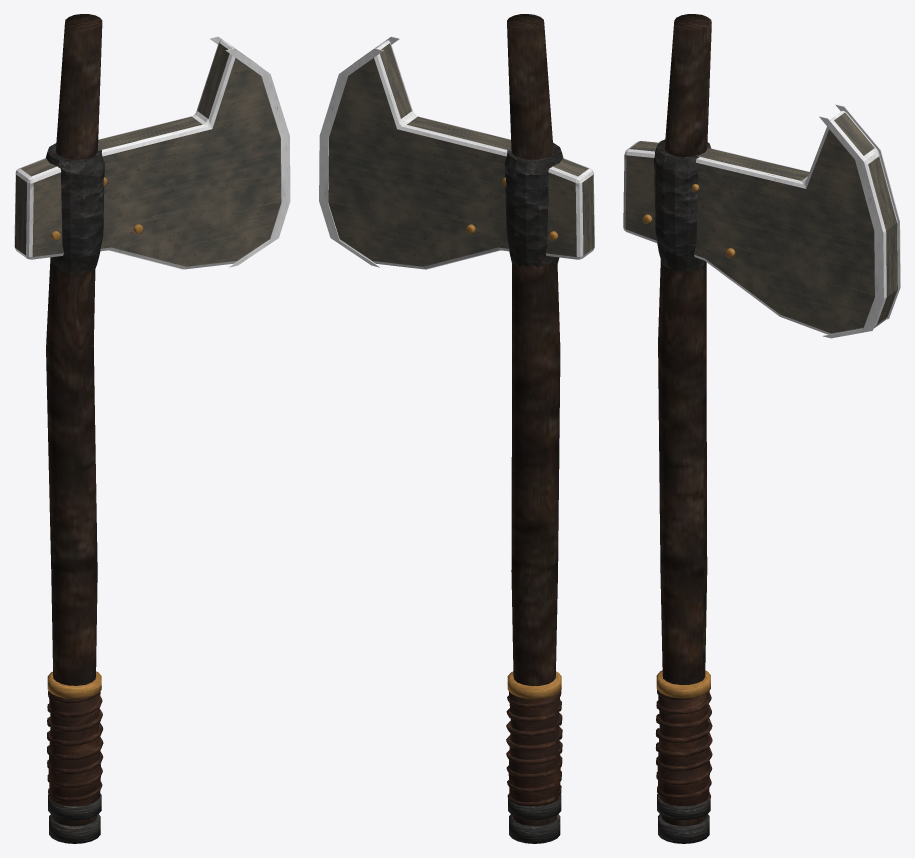
The model's file is ossuary_falx.glb.
The picture shows the model from 3 angles, left to right: view 1: azimuth 30°, elevation 25°; view 2: azimuth 150°, elevation 25°; view 3: azimuth 330°, elevation 25°; orthographic projection.
Visible parts, largest first — view 1: Shaped bearded axe head.002, Straight palm shaft and tapered ironwood.002, Swaged head socket.002, Bound palm grip.008, Continuous bound leather seam.008, Honed cutting cheek.004, Socketed pommel ferrule.002, Grip forward ferrule.008, Grip rear ferrule.008; view 2: Shaped bearded axe head.002, Straight palm shaft and tapered ironwood.002, Swaged head socket.002, Bound palm grip.008, Continuous bound leather seam.008, Honed cutting cheek.005, Socketed pommel ferrule.002, Grip forward ferrule.008, Grip rear ferrule.008; view 3: Shaped bearded axe head.002, Straight palm shaft and tapered ironwood.002, Swaged head socket.002, Bound palm grip.008, Continuous bound leather seam.008, Honed cutting cheek.004, Socketed pommel ferrule.002, Grip forward ferrule.008, Grip rear ferrule.008, Honed cutting cheek.005.
Boxes of the visible parts, bbox=[...] form: Shaped bearded axe head.002: bbox=[14, 40, 280, 269]; Straight palm shaft and tapered ironwood.002: bbox=[46, 14, 102, 825]; Swaged head socket.002: bbox=[46, 143, 104, 274]; Bound palm grip.008: bbox=[48, 691, 100, 806]; Continuous bound leather seam.008: bbox=[47, 686, 103, 801]; Honed cutting cheek.004: bbox=[225, 48, 290, 267]; Socketed pommel ferrule.002: bbox=[49, 814, 100, 843]; Grip forward ferrule.008: bbox=[47, 671, 101, 699]; Grip rear ferrule.008: bbox=[48, 794, 101, 820]; Shaped bearded axe head.002: bbox=[328, 40, 594, 269]; Straight palm shaft and tapered ironwood.002: bbox=[507, 14, 560, 825]; Swaged head socket.002: bbox=[504, 142, 563, 267]; Bound palm grip.008: bbox=[508, 691, 560, 806]; Continuous bound leather seam.008: bbox=[506, 690, 562, 806]; Honed cutting cheek.005: bbox=[319, 48, 383, 267]; Socketed pommel ferrule.002: bbox=[509, 814, 560, 843]; Grip forward ferrule.008: bbox=[507, 671, 561, 699]; Grip rear ferrule.008: bbox=[508, 793, 561, 820]; Shaped bearded axe head.002: bbox=[623, 110, 898, 334]; Straight palm shaft and tapered ironwood.002: bbox=[658, 14, 711, 825]; Swaged head socket.002: bbox=[654, 139, 711, 271]; Bound palm grip.008: bbox=[657, 691, 709, 806]; Continuous bound leather seam.008: bbox=[655, 689, 712, 801]; Honed cutting cheek.004: bbox=[819, 116, 884, 338]; Socketed pommel ferrule.002: bbox=[658, 814, 709, 843]; Grip forward ferrule.008: bbox=[656, 670, 710, 698]; Grip rear ferrule.008: bbox=[657, 794, 710, 819]; Honed cutting cheek.005: bbox=[835, 104, 900, 319].
Bounding box in the file's own units: 0.4089 × 1.21 × 0.0804.
6 materials, 6 textured.
